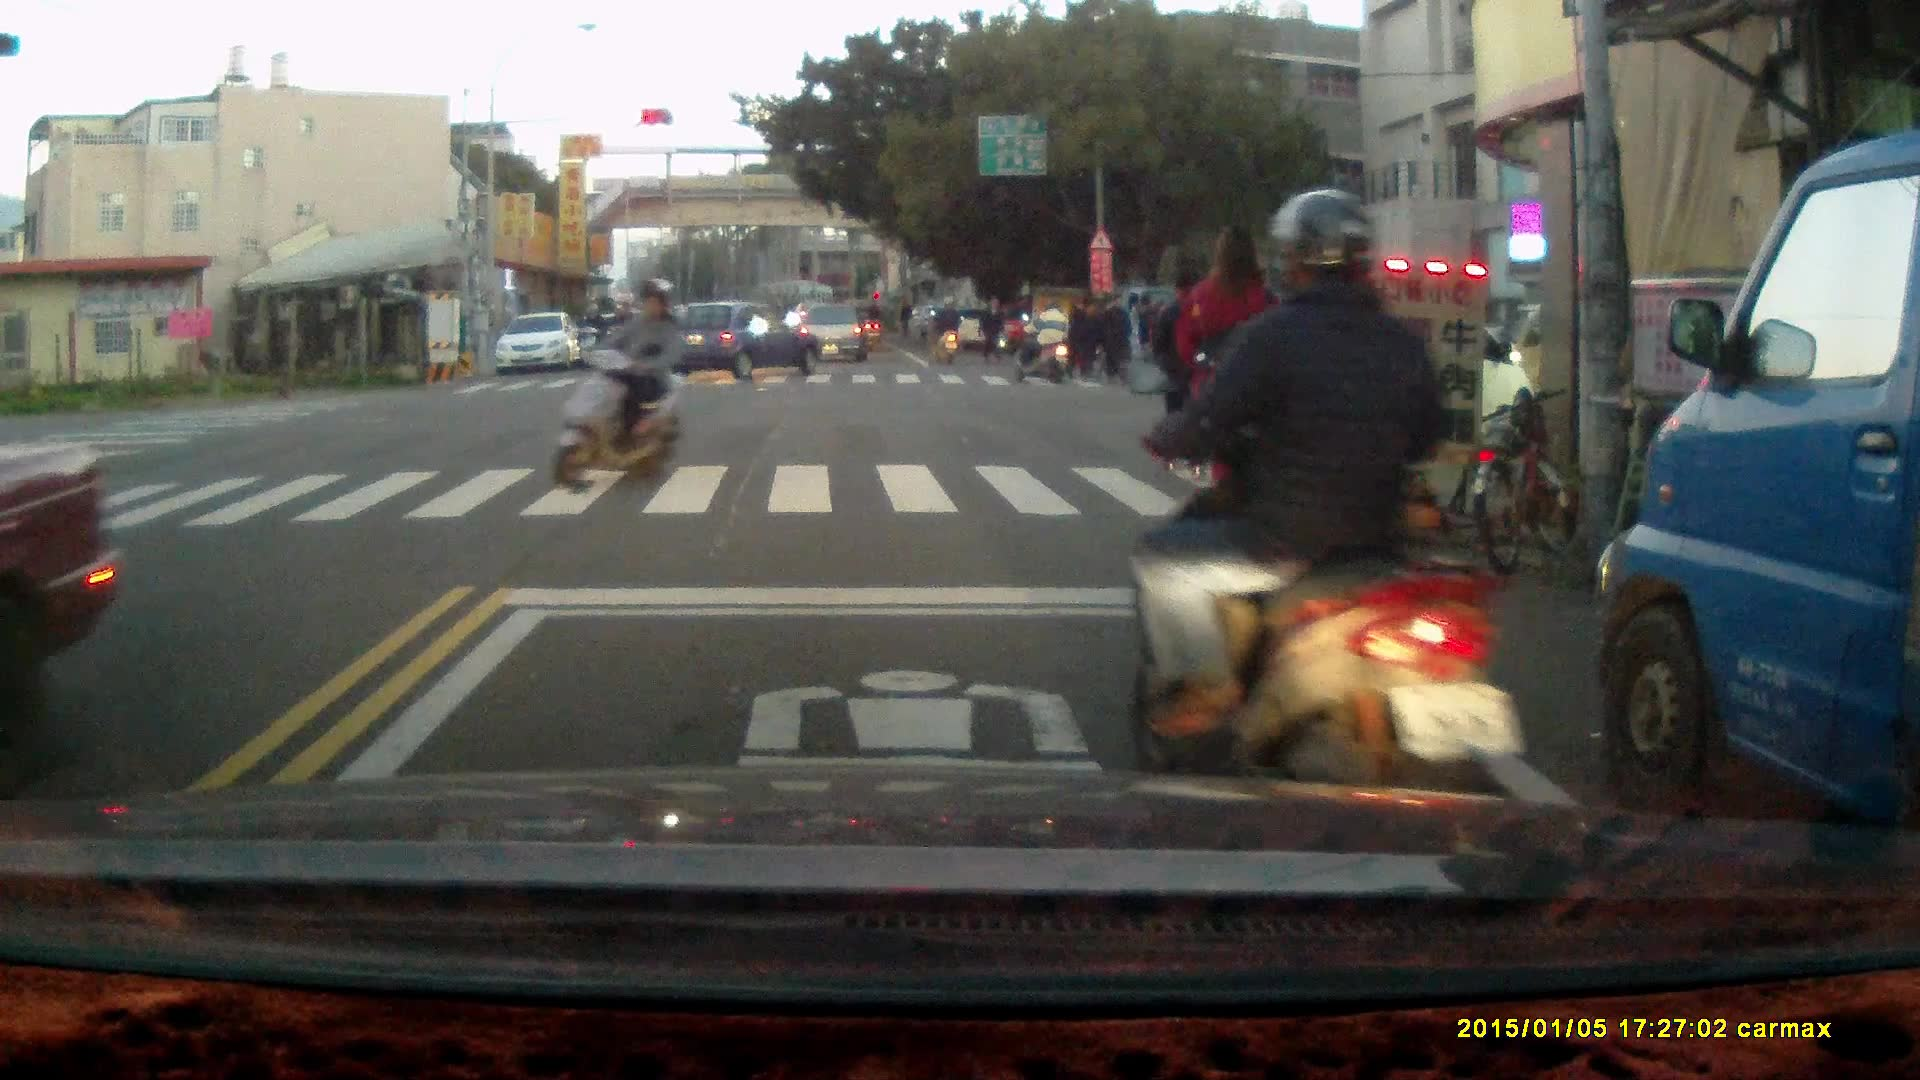pedestrian: (1175, 218, 1293, 568), (1148, 263, 1231, 481), (1097, 290, 1130, 386), (1066, 296, 1091, 377), (979, 292, 1003, 367)
rider: (1122, 188, 1516, 868), (551, 279, 688, 493), (1014, 296, 1071, 384), (929, 293, 961, 367), (575, 302, 607, 370)
vehicle: (1598, 132, 1920, 882), (1233, 296, 1533, 459), (1, 411, 123, 728), (662, 303, 821, 385), (498, 313, 586, 377), (795, 302, 874, 365)
